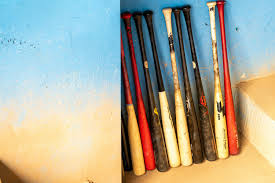baseball bat: (131, 12, 170, 172), (143, 11, 181, 167), (121, 13, 158, 171), (172, 7, 204, 164), (162, 7, 193, 166), (216, 1, 240, 156), (120, 35, 146, 176), (207, 1, 230, 159)
